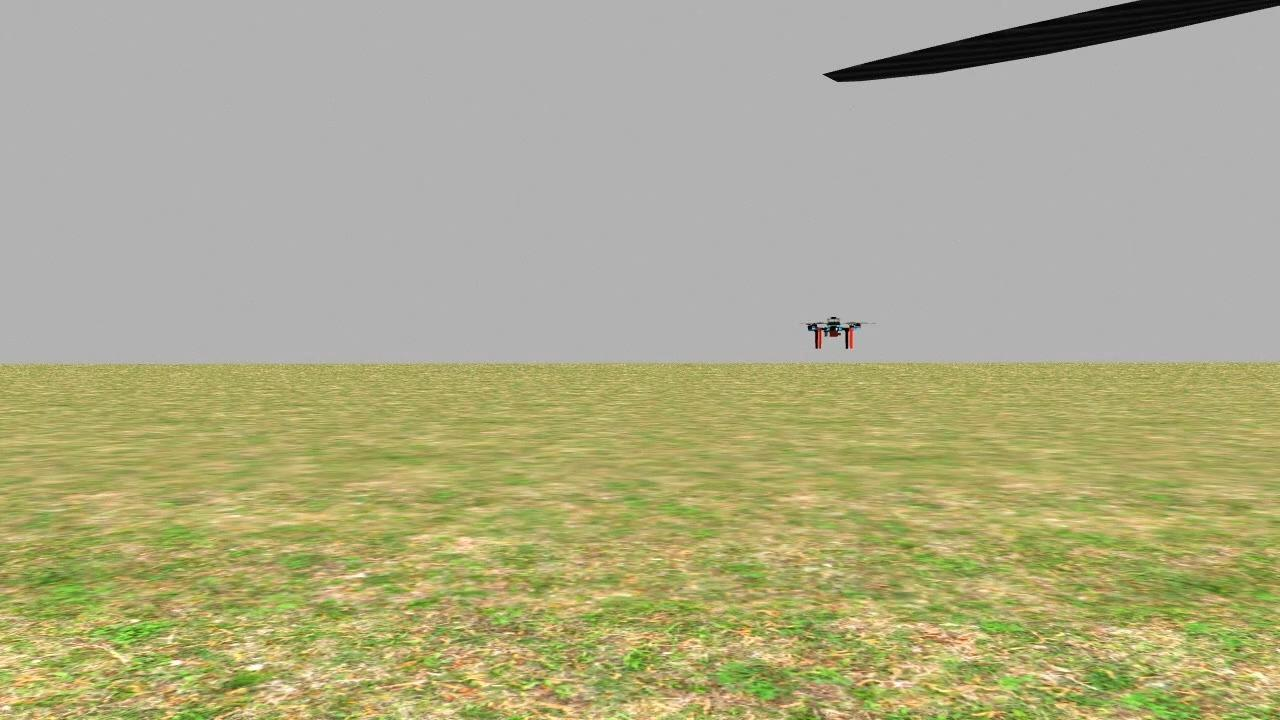UAV: (798, 291, 871, 366)
